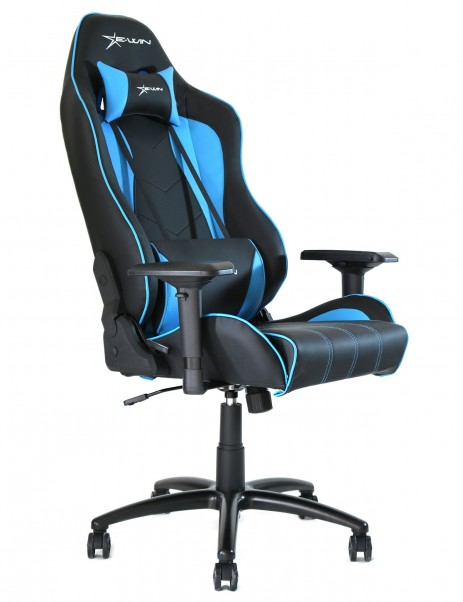chairs: (57, 12, 408, 593)
